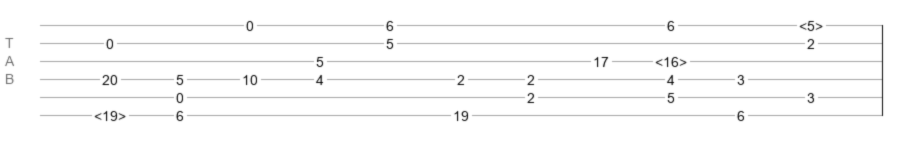0: (106, 36, 114, 46), (176, 90, 184, 100), (246, 18, 254, 28)
10: (242, 72, 258, 82)
17: (593, 54, 609, 64)
19: (453, 108, 469, 118)
2: (457, 72, 465, 82), (527, 72, 535, 82), (527, 90, 535, 100), (807, 36, 815, 46)
20: (102, 72, 118, 82)
3: (737, 72, 745, 82), (807, 90, 815, 100)
4: (316, 72, 324, 82), (667, 72, 675, 82)
5: (176, 72, 184, 82), (316, 54, 324, 64), (386, 36, 394, 46), (667, 90, 675, 100)
6: (176, 108, 184, 118), (386, 18, 394, 28), (667, 18, 675, 28), (737, 108, 745, 118)
harmonic: (94, 108, 126, 118), (655, 54, 687, 64), (799, 18, 823, 28)
